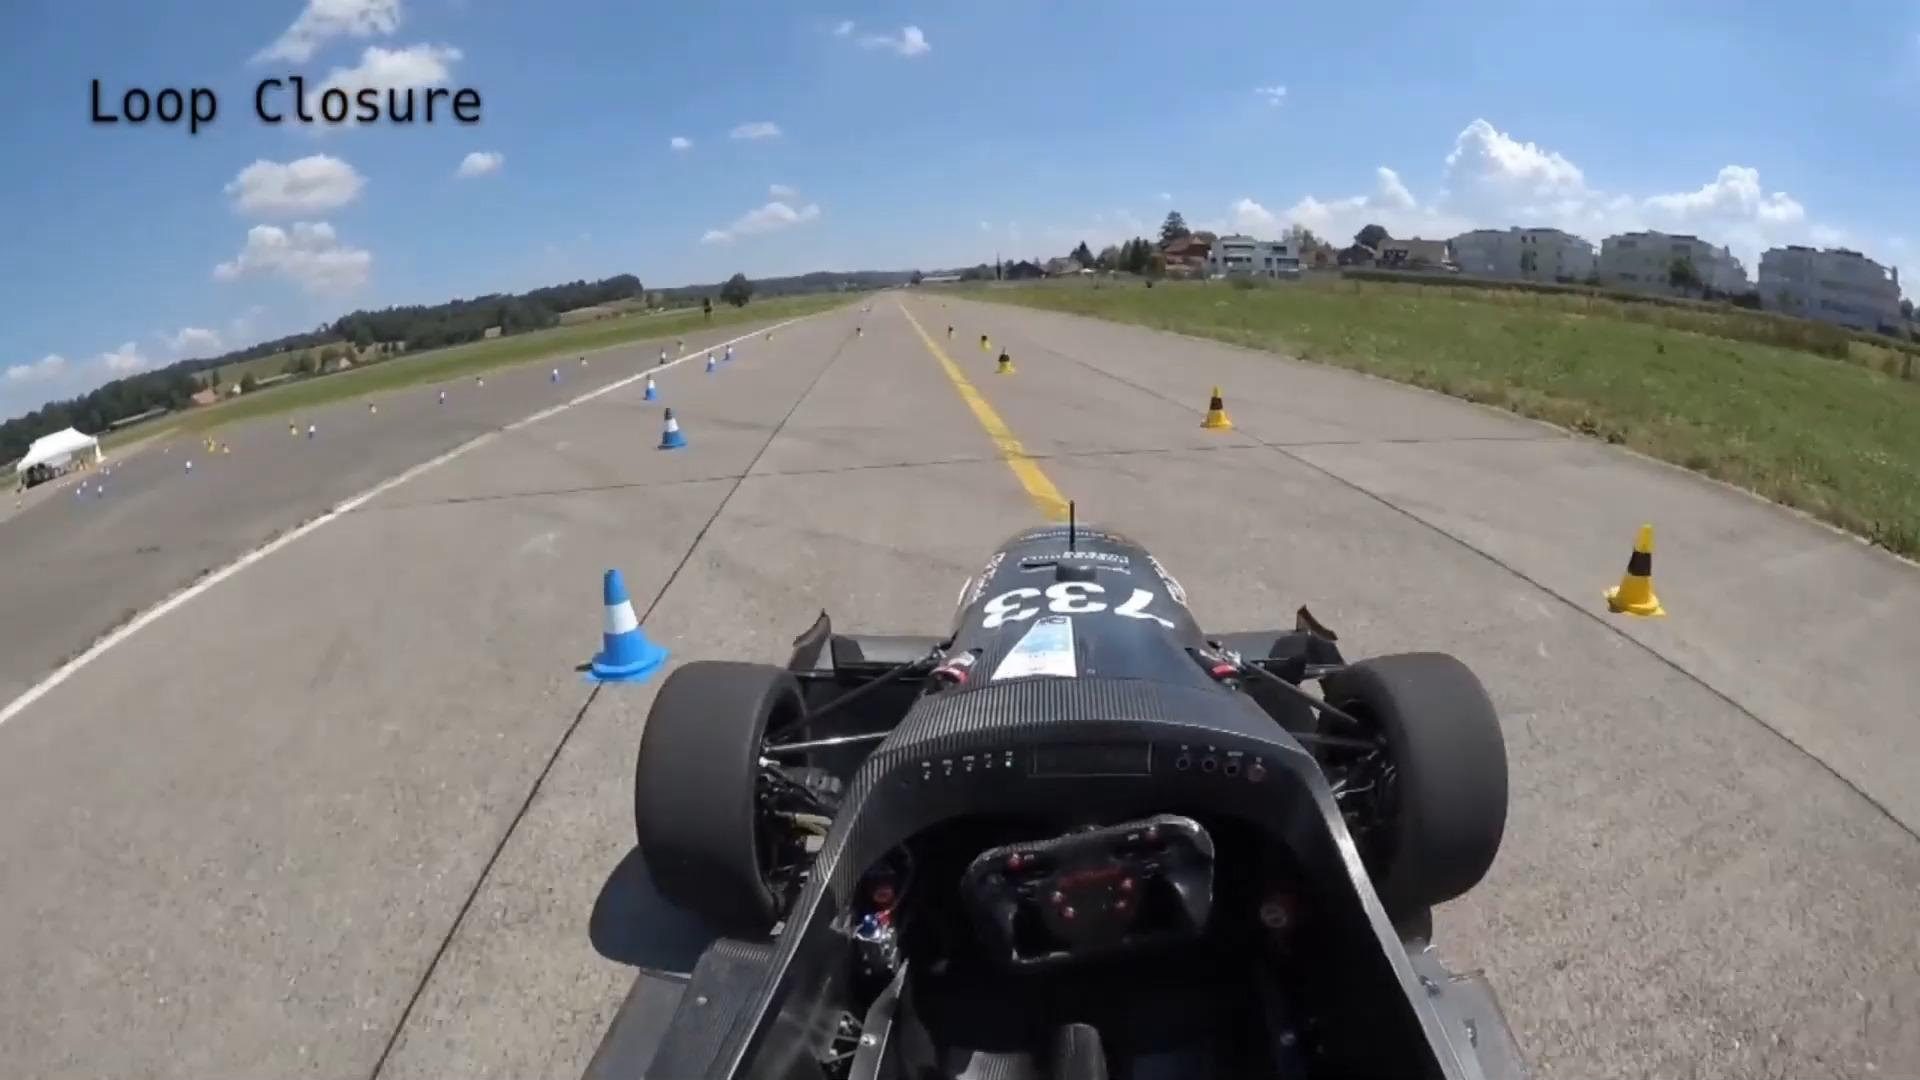blue_cone: (587, 572, 673, 683), (661, 406, 687, 450)
yellow_cone: (1604, 526, 1668, 620), (1200, 384, 1237, 430)
